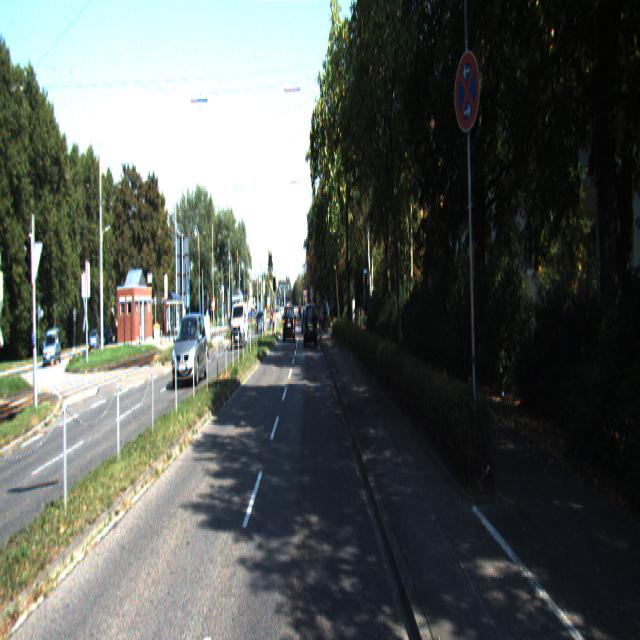Car: (172, 310, 209, 390), (231, 302, 249, 348), (304, 302, 318, 348), (284, 305, 296, 342)
